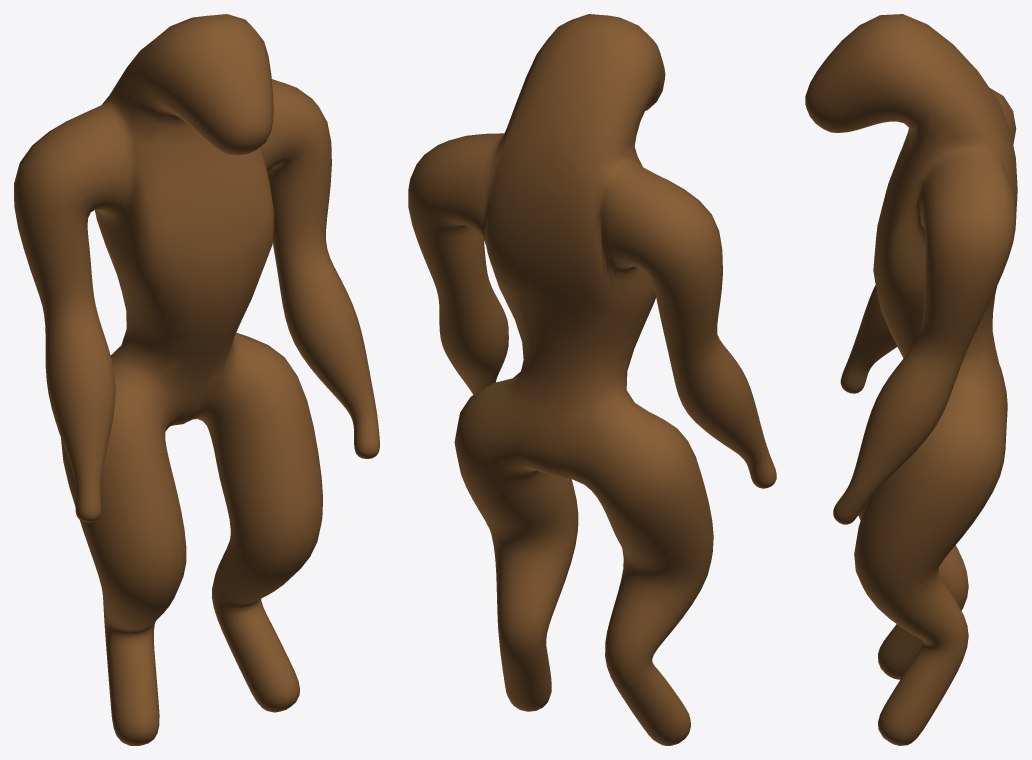
The model's file is werewolf.fbx.
The picture shows the model from 3 angles, left to right: view 1: azimuth 30°, elevation 25°; view 2: azimuth 150°, elevation 25°; view 3: azimuth 270°, elevation 25°; orthographic projection. The views are drawn at different scales.
Visible parts, largest first — view 1: werewolf; view 2: werewolf; view 3: werewolf.
Part boxes in pixels (x1=…): werewolf: x1=14, y1=14, x2=379, y2=745; werewolf: x1=408, y1=14, x2=776, y2=745; werewolf: x1=805, y1=14, x2=1017, y2=745.
Size of the model in its own units: 150 by 333 by 92.95.
